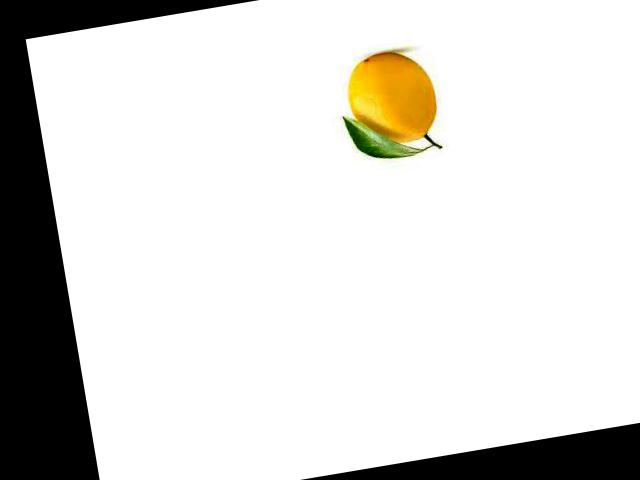lemon: (336, 37, 449, 159)
